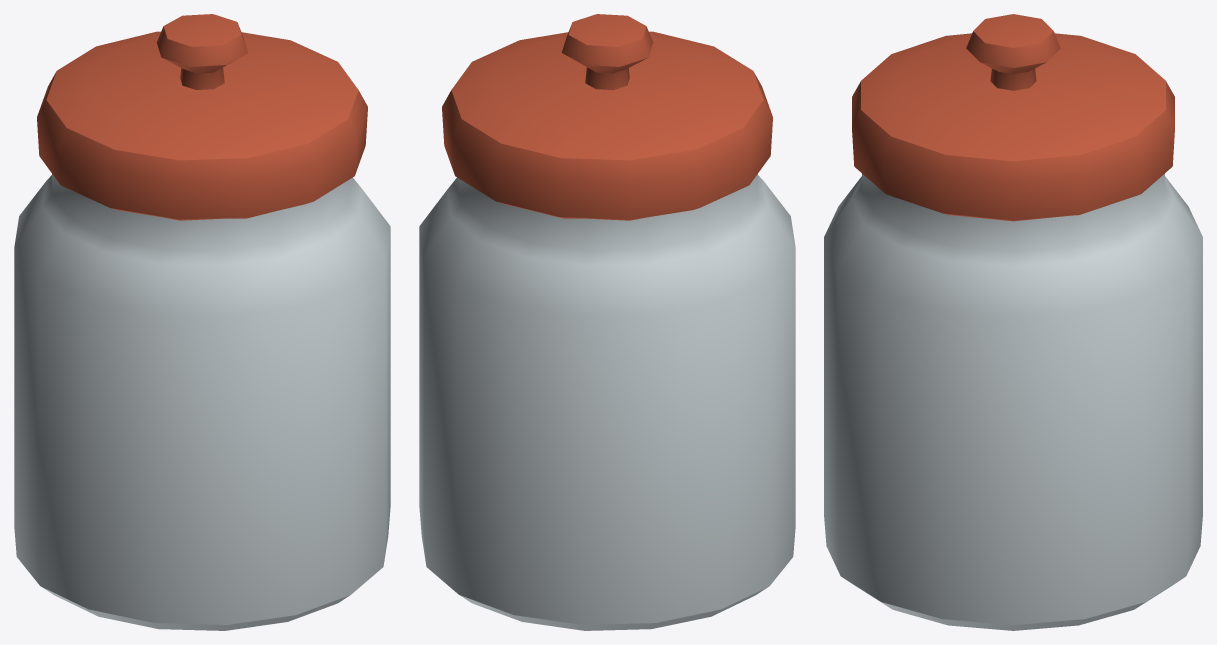
The model's file is cookieJar.glb.
3 views of the same model, side by side, from view 1: azimuth 30°, elevation 25°; view 2: azimuth 150°, elevation 25°; view 3: azimuth 270°, elevation 25° (orthographic).
Parts seen in each view (by area): view 1: cookieJar; view 2: cookieJar; view 3: cookieJar.
Part boxes in pixels (x1,y1,x2,y2): cookieJar: (14,14,390,630); cookieJar: (419,14,795,630); cookieJar: (824,14,1202,630).
Bounding box in the file's own units: 0.16 × 0.2481 × 0.16.
